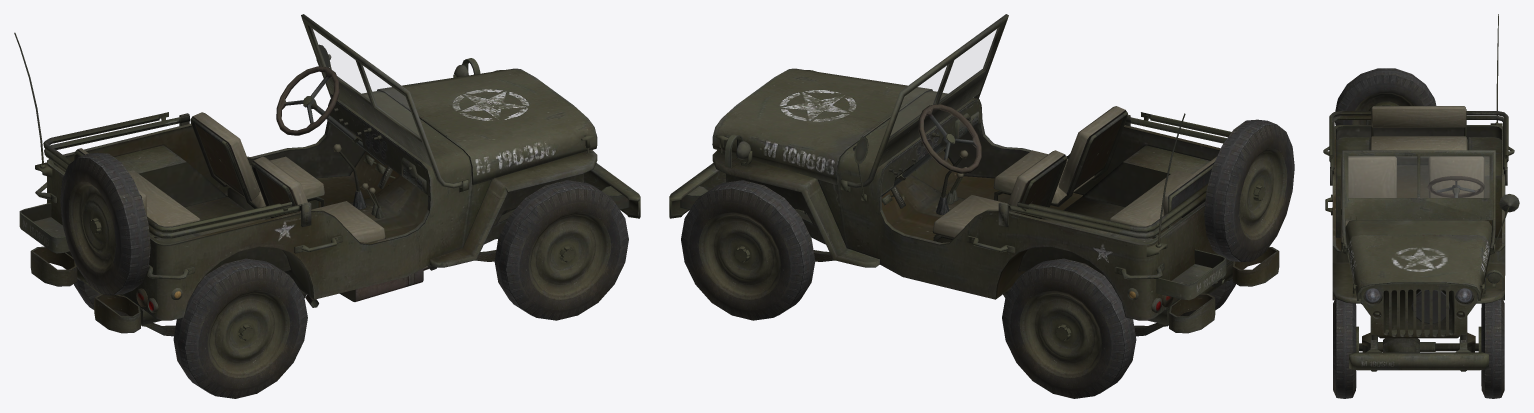
File: jeep.gltf
3 views of the same model, side by side, from view 1: azimuth 30°, elevation 25°; view 2: azimuth 150°, elevation 25°; view 3: azimuth 270°, elevation 25° (orthographic). The views are drawn at different scales.
Visible parts, largest first — view 1: Object_3, Object_2; view 2: Object_3, Object_2; view 3: Object_3, Object_2.
Boxes of the visible parts, left/top/right/bottom form: Object_3: left=14, top=14, right=640, bottom=398; Object_2: left=311, top=28, right=419, bottom=137; Object_3: left=669, top=14, right=1294, bottom=398; Object_2: left=890, top=28, right=998, bottom=137; Object_3: left=1323, top=14, right=1519, bottom=398; Object_2: left=1349, top=157, right=1488, bottom=197.
Size of the model in its own units: 165 by 92.9 by 73.63.
2 materials, 2 textured.
